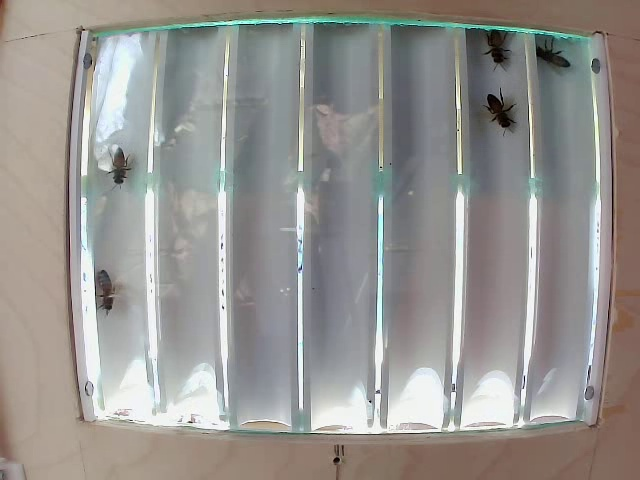bee: (475, 92, 526, 143), (481, 23, 517, 73), (104, 147, 141, 186), (99, 265, 127, 313), (532, 38, 566, 77)
